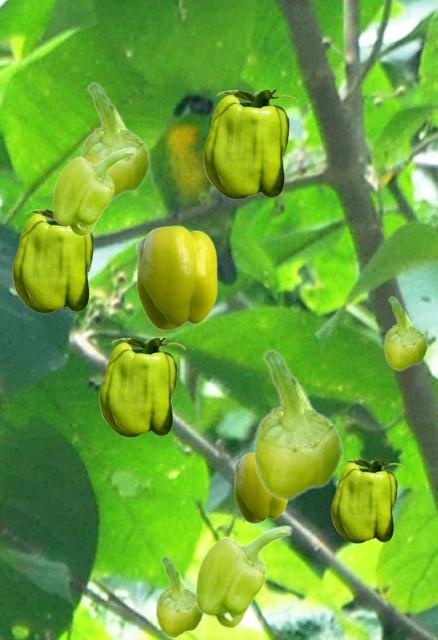bell_pepper: (252, 349, 343, 500), (194, 524, 292, 628), (203, 90, 297, 198), (12, 209, 101, 312), (79, 82, 150, 201), (135, 225, 216, 329), (99, 338, 184, 436), (51, 146, 136, 236), (331, 459, 403, 542), (155, 556, 203, 637), (233, 451, 287, 522), (383, 296, 427, 370)
